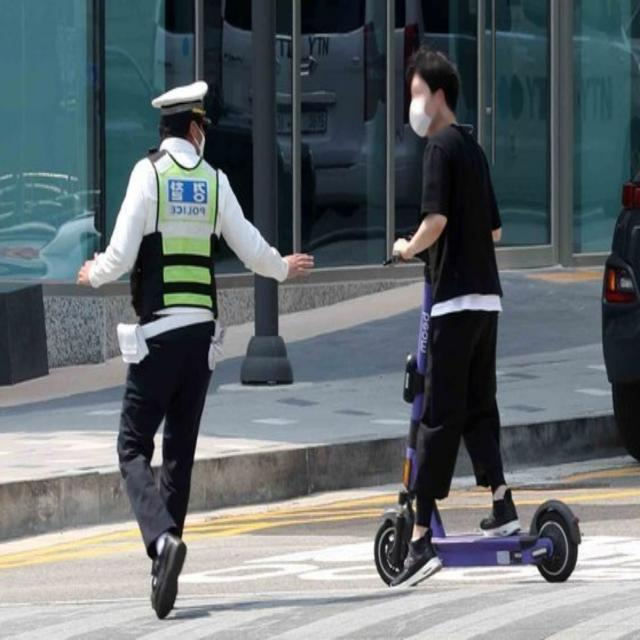bare_head: (394, 48, 483, 128)
human: (383, 40, 525, 534)
kickboard: (360, 479, 609, 610)
